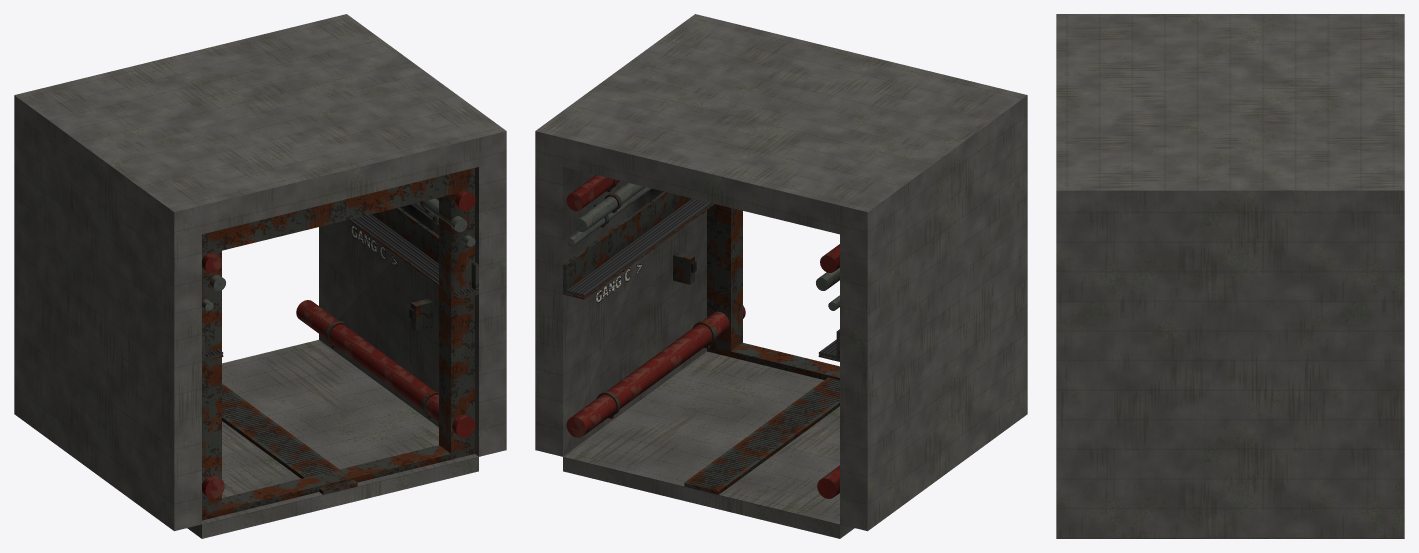
Rendered from fortress_corridor.glb.
The picture shows the model from 3 angles, left to right: view 1: azimuth 30°, elevation 25°; view 2: azimuth 150°, elevation 25°; view 3: azimuth 270°, elevation 25°; orthographic projection. The views are drawn at different scales.
Visible parts, largest first — view 1: Corridor; view 2: Corridor; view 3: Corridor.
Boxes of the visible parts, bbox=[...] form: Corridor: bbox=[14, 14, 506, 538]; Corridor: bbox=[535, 14, 1027, 538]; Corridor: bbox=[1056, 14, 1404, 538].
Size of the model in its own units: 4.8 by 4.7 by 4.
10 materials, 7 textured.
